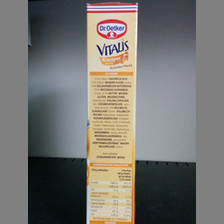cereal: (85, 3, 138, 224)
